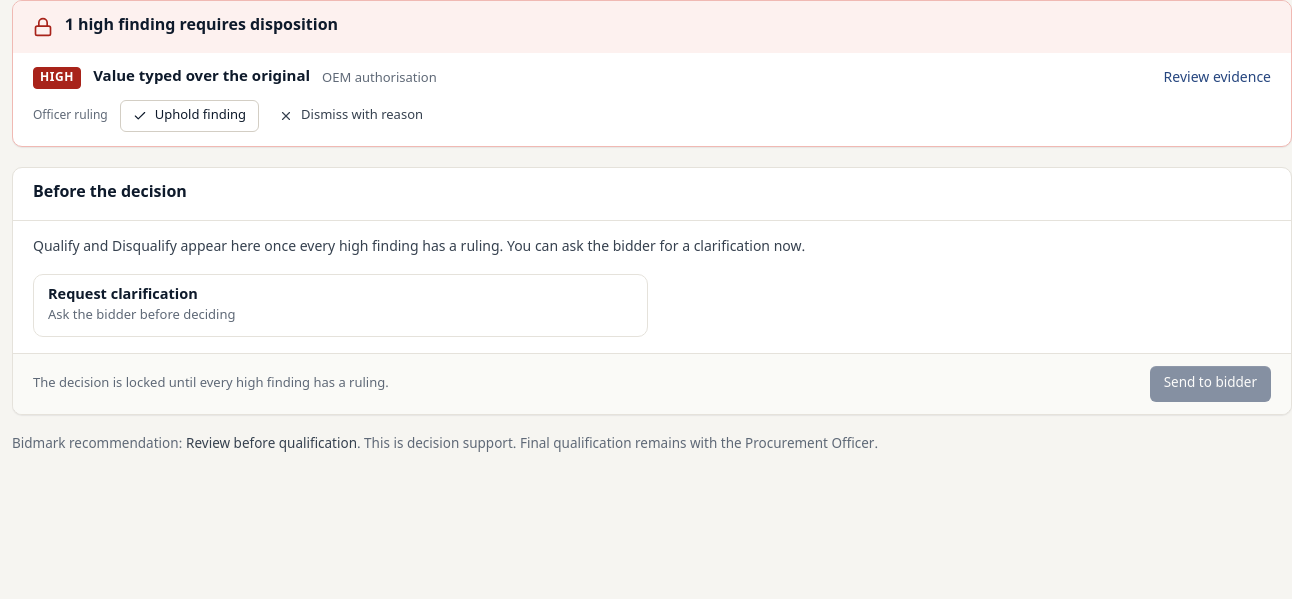
Test: decision gate › a dismissal needs a written reason
Expected: the element named "Action" is shown, [33,274,648,337]
Click the button "Dismiss with reason".
click(351, 116)  # box [267,100,435,132]
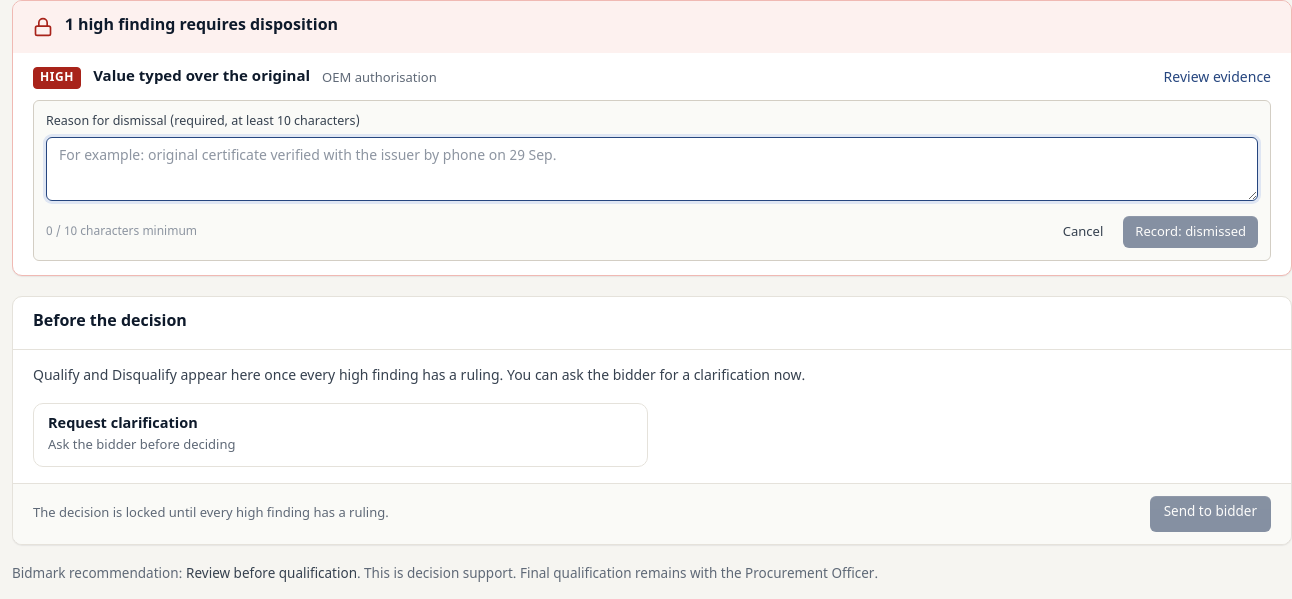
Result: the button "Record: dismissed" is disabled at [1123,216,1258,248]
